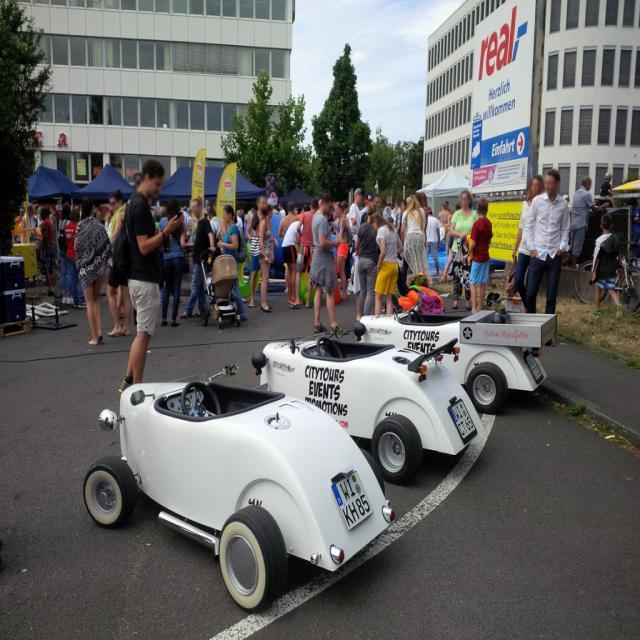truck: (81, 357, 395, 613), (250, 336, 483, 490), (346, 302, 550, 414)
